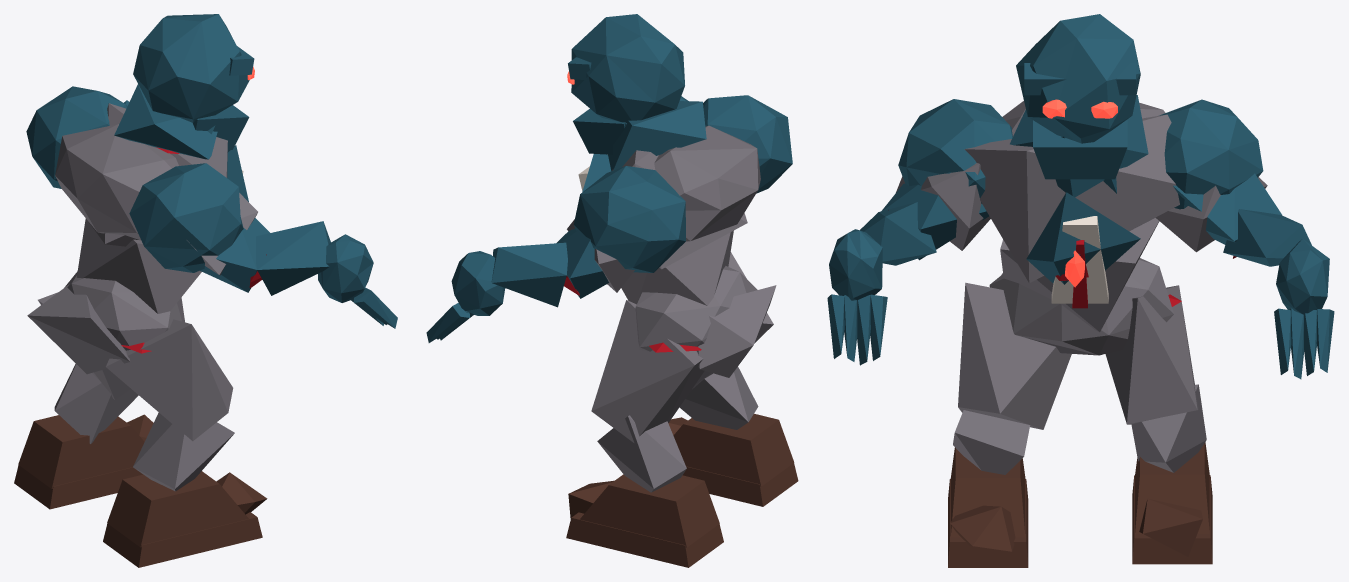
The model's file is inf.alpha-suit.lod2.glb.
The picture shows the model from 3 angles, left to right: view 1: azimuth 30°, elevation 25°; view 2: azimuth 150°, elevation 25°; view 3: azimuth 270°, elevation 25°; orthographic projection. The views are drawn at different scales.
Parts seen in each view (by area): view 1: torso, armR, footR, head, footL, hip, legR, armL, shinR, foreArmR, handR, shinL (+1 smaller); view 2: torso, armL, head, footL, hip, footR, legL, armR, shinL, foreArmL, handL, shinR; view 3: torso, head, armL, armR, legR, footL, footR, legL, hip, handR, handL, shinR (+3 smaller).
Part boxes in pixels (<box>): torso: <box>55,84,248,313</box>; armR: <box>129,163,269,292</box>; footR: <box>103,471,267,567</box>; head: <box>133,14,254,150</box>; footL: <box>14,414,153,509</box>; hip: <box>27,271,184,374</box>; legR: <box>106,319,233,441</box>; armL: <box>26,86,127,188</box>; shinR: <box>133,412,234,491</box>; foreArmR: <box>256,221,330,295</box>; handR: <box>318,234,397,328</box>; shinL: <box>54,364,138,443</box>; torso: <box>578,101,760,305</box>; armL: <box>556,166,685,298</box>; head: <box>567,14,684,170</box>; footL: <box>566,474,723,567</box>; hip: <box>635,266,776,377</box>; footR: <box>668,413,798,506</box>; legL: <box>591,300,704,442</box>; armR: <box>703,95,792,193</box>; shinL: <box>597,415,686,492</box>; foreArmL: <box>491,242,567,307</box>; handL: <box>426,251,505,342</box>; shinR: <box>679,367,758,429</box>; torso: <box>964,95,1179,332</box>; head: <box>1016,14,1140,193</box>; armL: <box>1155,99,1281,252</box>; armR: <box>881,99,1012,260</box>; legR: <box>958,282,1071,429</box>; footL: <box>1132,442,1212,564</box>; footR: <box>948,447,1028,567</box>; legL: <box>1105,285,1198,424</box>; hip: <box>989,258,1173,355</box>; handR: <box>827,229,887,365</box>; handL: <box>1274,239,1334,379</box>; shinR: <box>953,410,1030,474</box>.
Size of the model in its own units: 1.32 by 2.49 by 2.11.
